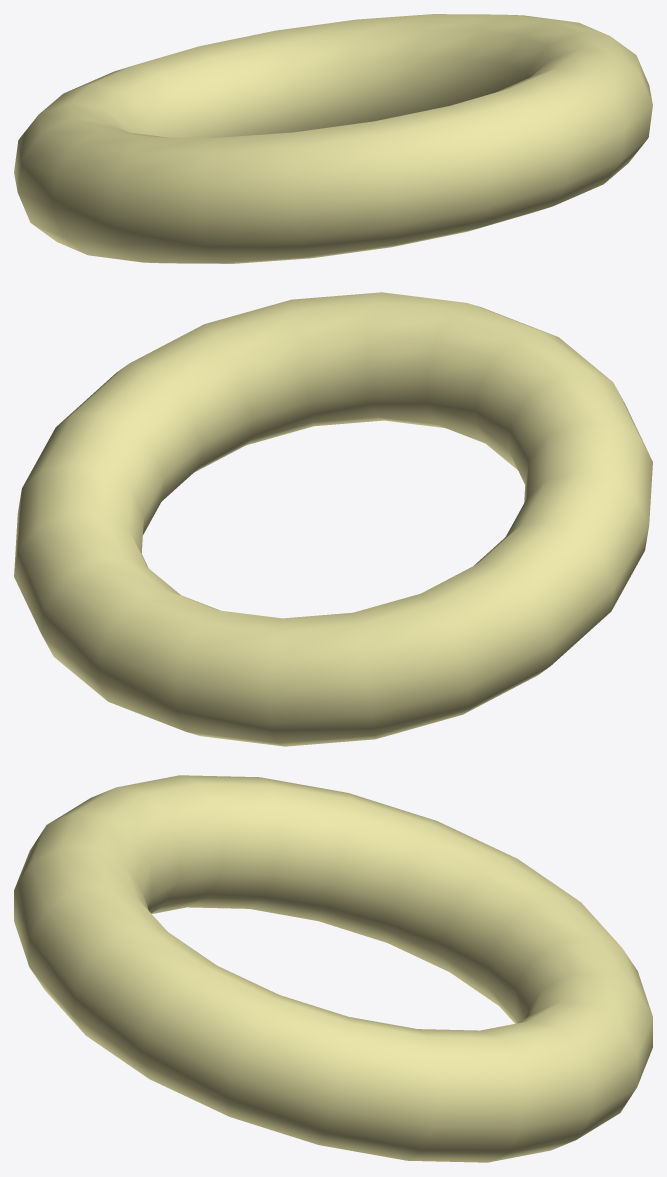
Rendered from halo.fbx.
The picture shows the model from 3 angles, top to bottom: view 1: azimuth 30°, elevation 25°; view 2: azimuth 150°, elevation 25°; view 3: azimuth 270°, elevation 25°; orthographic projection.
Visible parts, largest first — view 1: Halo; view 2: Halo; view 3: Halo.
Boxes of the visible parts, x1,y1,x2,y2 form: Halo: [14, 14, 652, 263]; Halo: [14, 292, 652, 746]; Halo: [14, 775, 652, 1162].
Bounding box in the file's own units: 37.58 × 36.28 × 15.18.
